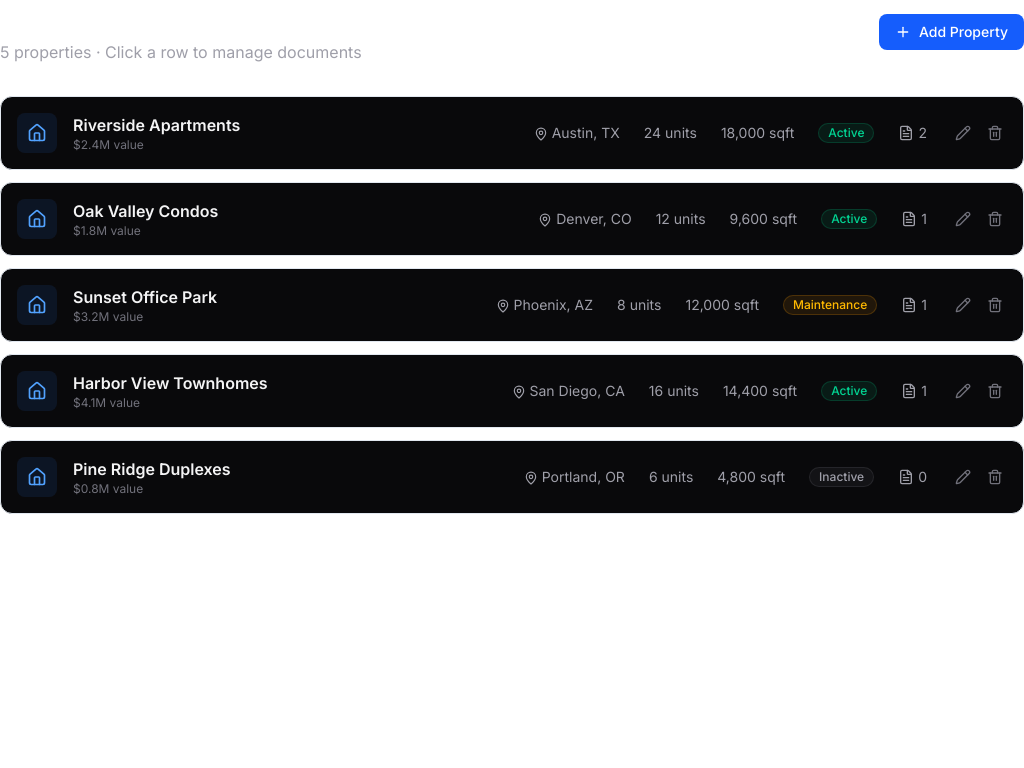
PropertiesPage (Sprint 5) › opens the Add Property modal
The image size is (1024, 768).
Click the button "Add Property" at (951, 32), box [879,14,1023,50]
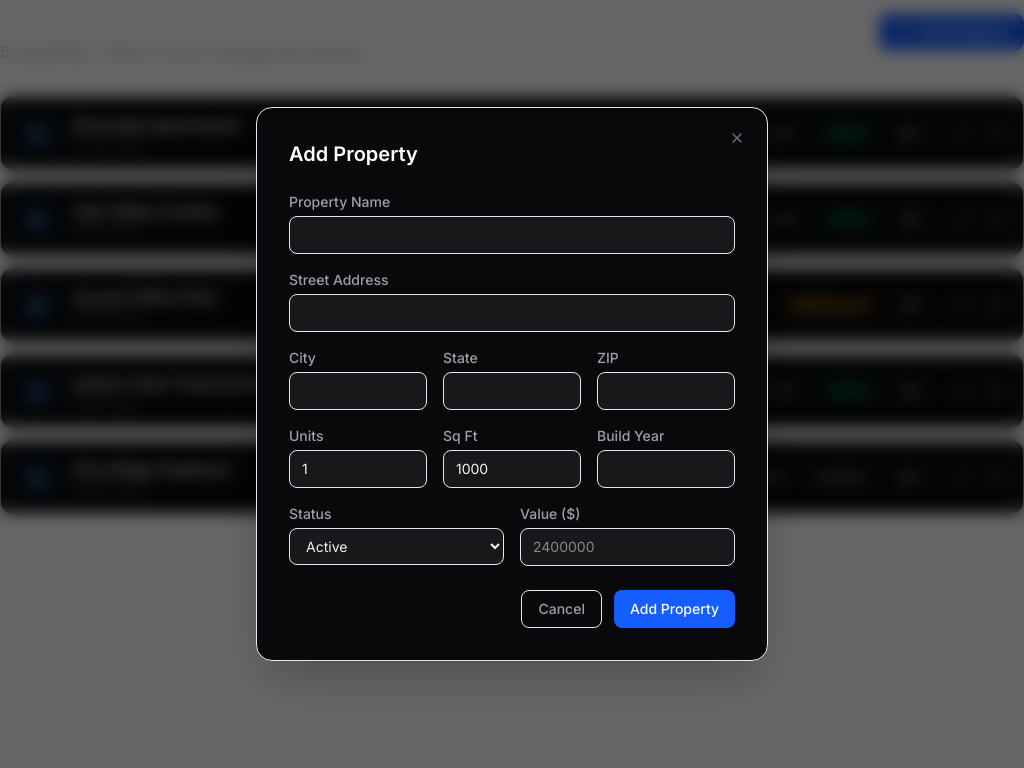
Result: the heading "Add Property" is shown at [289,142,418,166]
Result: the text "Property Name" is shown at [289,193,390,210]
